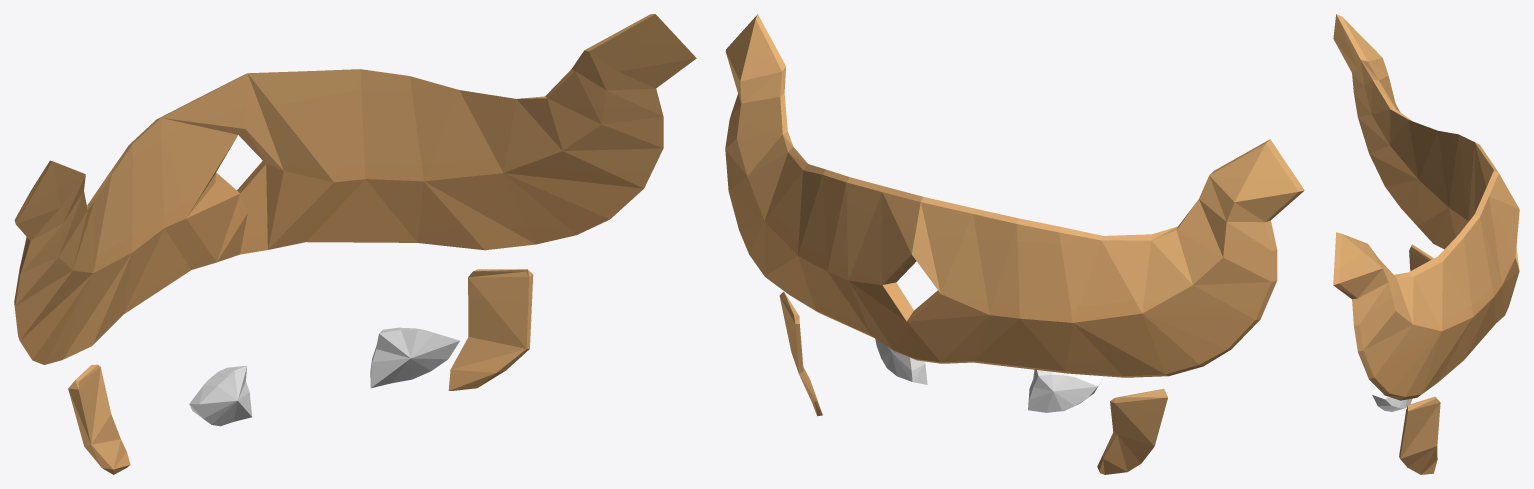
The model's file is CharSkyKid_Mask_ElderDawn_02.glb.
3 renders of one model, left to right at view 1: azimuth 30°, elevation 25°; view 2: azimuth 150°, elevation 25°; view 3: azimuth 270°, elevation 25°, orthographic. The views are drawn at different scales.
Parts seen in each view (by area): view 1: CharSkyKid_Mask_ElderDawn_02; view 2: CharSkyKid_Mask_ElderDawn_02; view 3: CharSkyKid_Mask_ElderDawn_02.
Part boxes in pixels (x1,y1,x2,y2): CharSkyKid_Mask_ElderDawn_02: (14,14,696,474); CharSkyKid_Mask_ElderDawn_02: (725,14,1304,474); CharSkyKid_Mask_ElderDawn_02: (1333,14,1519,474).
Bounding box in the file's own units: 3.73 × 2.05 × 1.19.
1 material, 1 textured.
